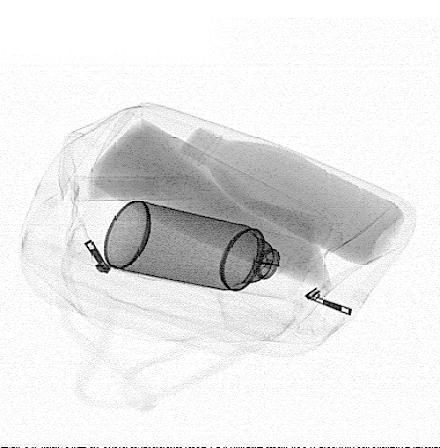Sprayer: (101, 198, 314, 301)
